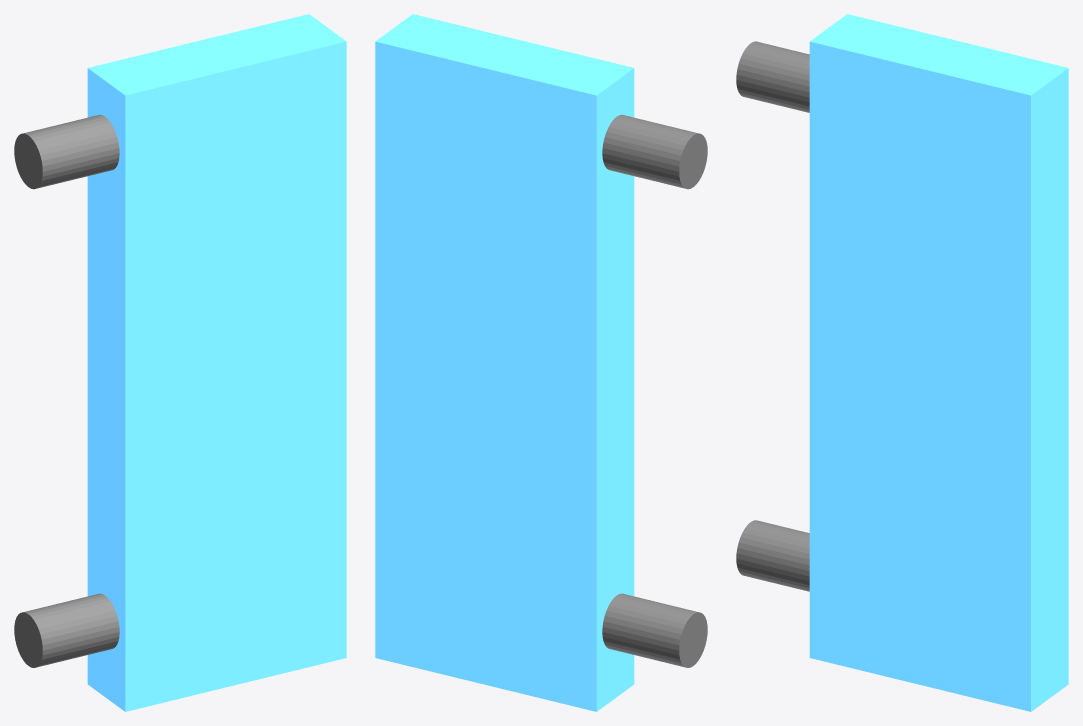
Rendered from BrightBlue_NeonSign_Tall.fbx.
3 views of the same model, side by side, from view 1: azimuth 30°, elevation 25°; view 2: azimuth 150°, elevation 25°; view 3: azimuth 330°, elevation 25° (orthographic).
Visible parts, largest first — view 1: Sign, Top Rung, Bottom Rung; view 2: Sign, Top Rung, Bottom Rung; view 3: Sign, Top Rung, Bottom Rung.
Part boxes in pixels (x1,y1,x2,y2): Sign: (87, 14, 346, 711); Top Rung: (14, 114, 119, 189); Bottom Rung: (14, 593, 119, 667); Sign: (375, 14, 634, 711); Top Rung: (602, 114, 707, 189); Bottom Rung: (602, 593, 707, 667); Sign: (809, 14, 1068, 711); Top Rung: (736, 41, 809, 112); Bottom Rung: (736, 520, 809, 591).
Bounding box in the file's own units: 172 × 338 × 37.44.
